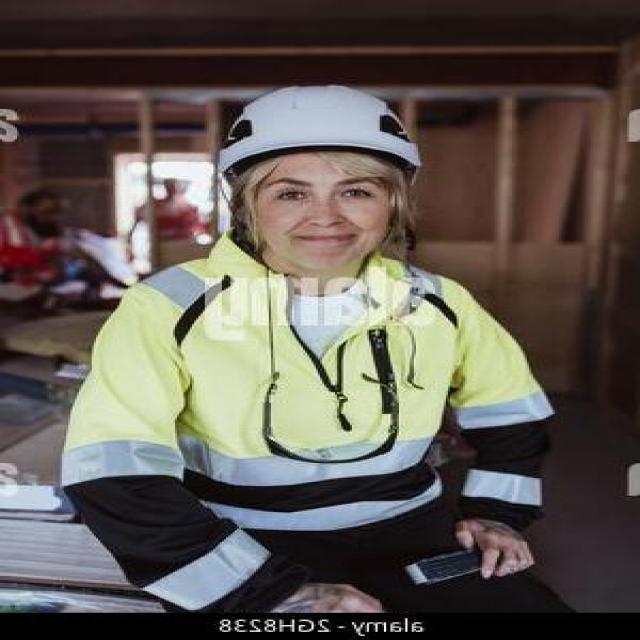Reflective-Jacket: (128, 253, 495, 488)
Safety-Helmet: (207, 79, 429, 177)
